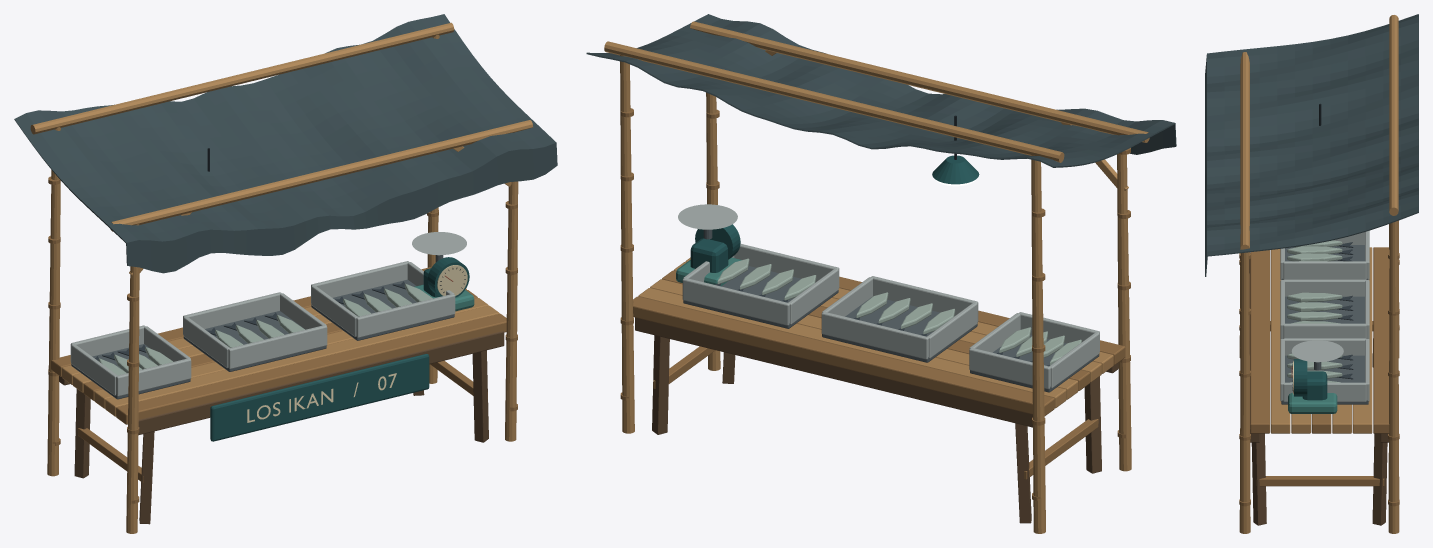
The model's file is LapakIkan.fbx.
3 views of the same model, side by side, from view 1: azimuth 30°, elevation 25°; view 2: azimuth 150°, elevation 25°; view 3: azimuth 270°, elevation 25° (orthographic). The views are drawn at different scales.
Visible parts, largest first — view 1: LapakIkan; view 2: LapakIkan; view 3: LapakIkan.
Boxes of the visible parts, x1,y1,x2,y2 form: LapakIkan: (14,14,557,533); LapakIkan: (586,14,1176,533); LapakIkan: (1205,14,1418,533).
Bounding box in the file's own units: 343 × 271 × 157.
